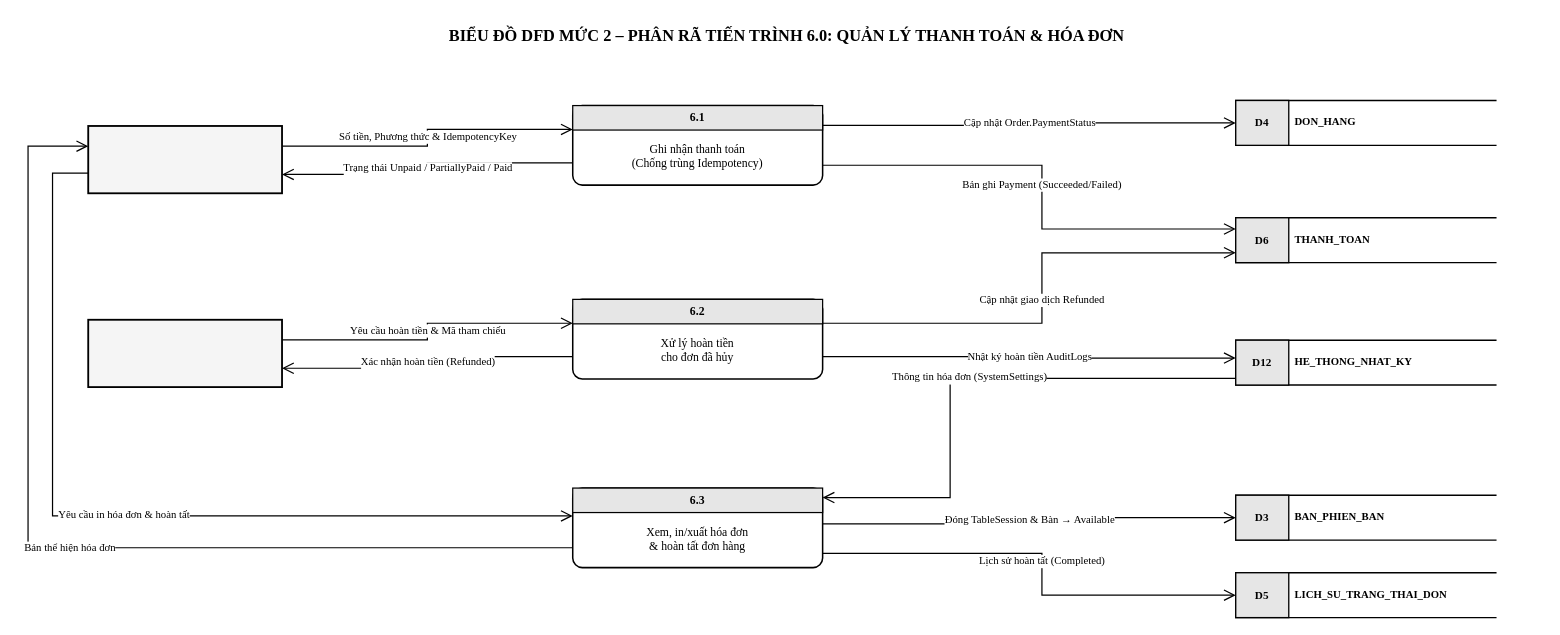
This 1560x635 diagram has some shape labels left out. The shapes that lost their labels are listed below. From the top down, each one's box as (x1, y1, x2, y2) in pixels, then its label:
(87, 125, 282, 194): Thu ngân (CASHIER)
(87, 318, 282, 387): Chủ quán (ADMIN) / Quản lý (MANAGER)
